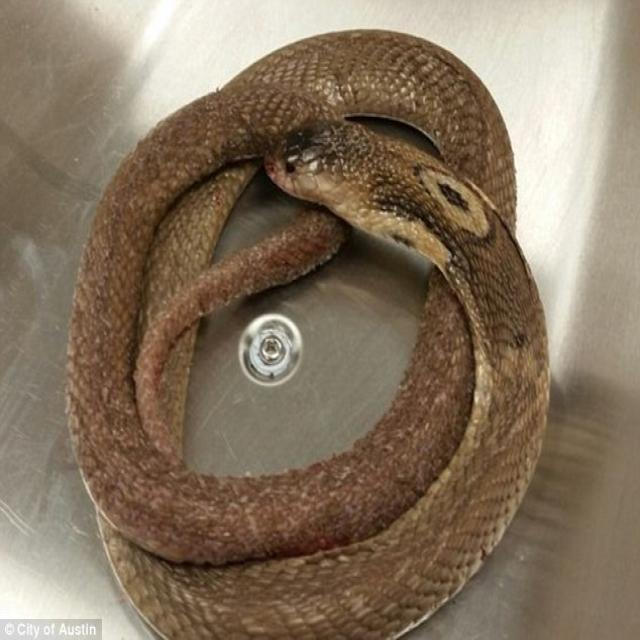Snake: (62, 26, 550, 639)
